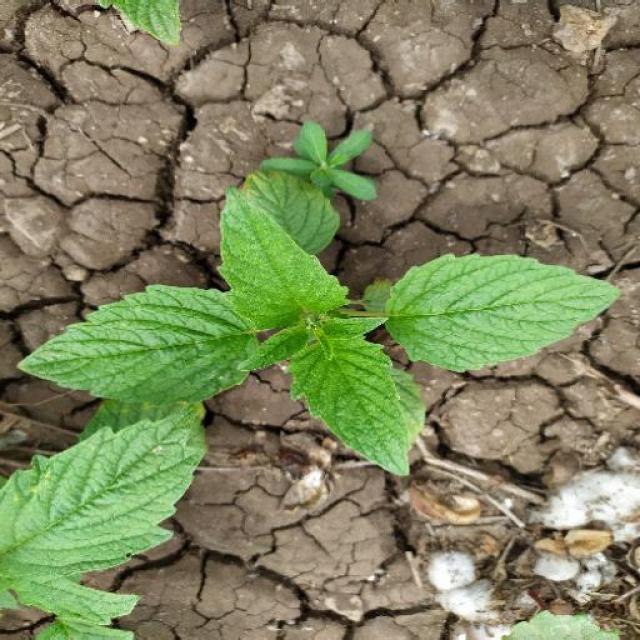crop: (14, 177, 628, 478)
